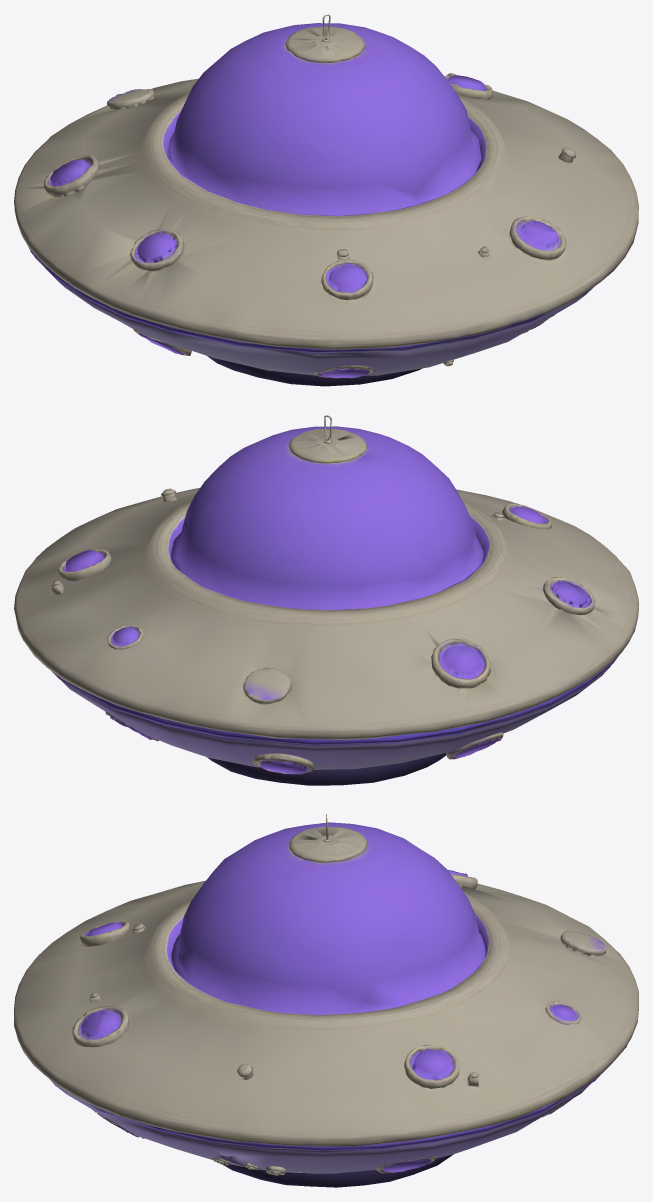
File: r33-ufo.glb
The picture shows the model from 3 angles, top to bottom: view 1: azimuth 30°, elevation 25°; view 2: azimuth 150°, elevation 25°; view 3: azimuth 270°, elevation 25°; orthographic projection.
Parts seen in each view (by area): view 1: tripo_node_739f0f34-227a-4324-afd9-875b48082e72; view 2: tripo_node_739f0f34-227a-4324-afd9-875b48082e72; view 3: tripo_node_739f0f34-227a-4324-afd9-875b48082e72.
Boxes of the visible parts, x1,y1,x2,y2 form: tripo_node_739f0f34-227a-4324-afd9-875b48082e72: [14, 14, 638, 386]; tripo_node_739f0f34-227a-4324-afd9-875b48082e72: [14, 415, 638, 785]; tripo_node_739f0f34-227a-4324-afd9-875b48082e72: [14, 814, 638, 1187].
Bounding box in the file's own units: 0.998 × 0.5566 × 0.998.
Materials: 1 (1 with a texture image).
